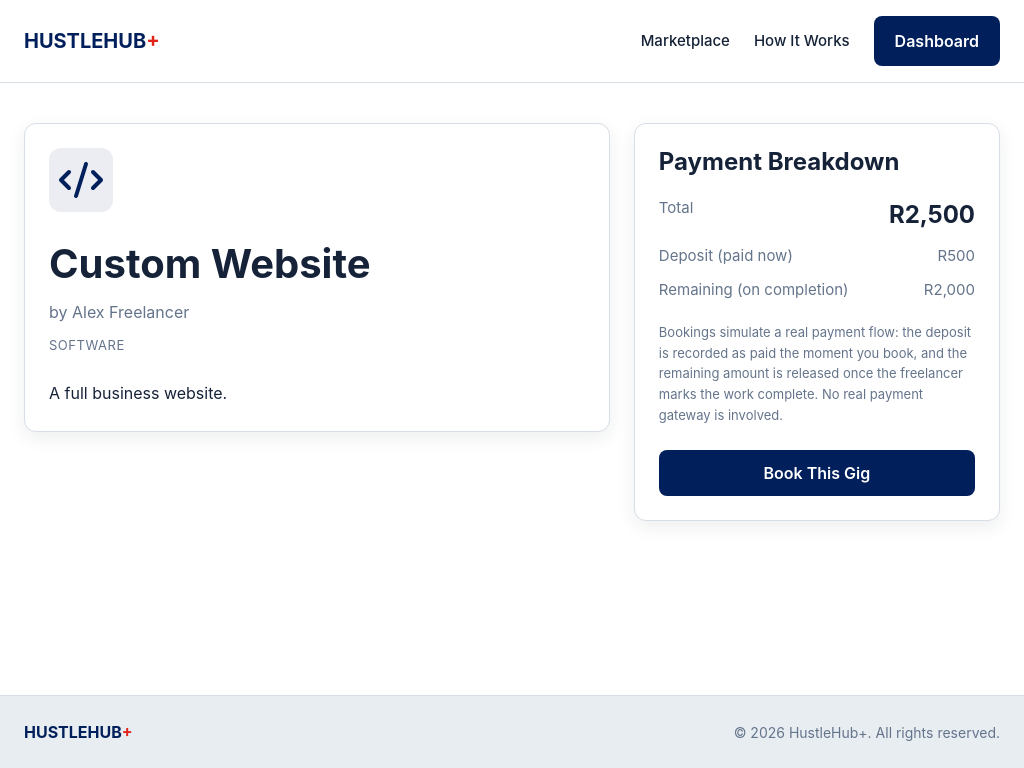
Test: Gig details: what each visitor can do › a successful booking toasts and goes to My Bookings
This screenshot has width=1024, height=768.
Click the button "Book This Gig": coordinates (817, 473) [659,450,975,496]
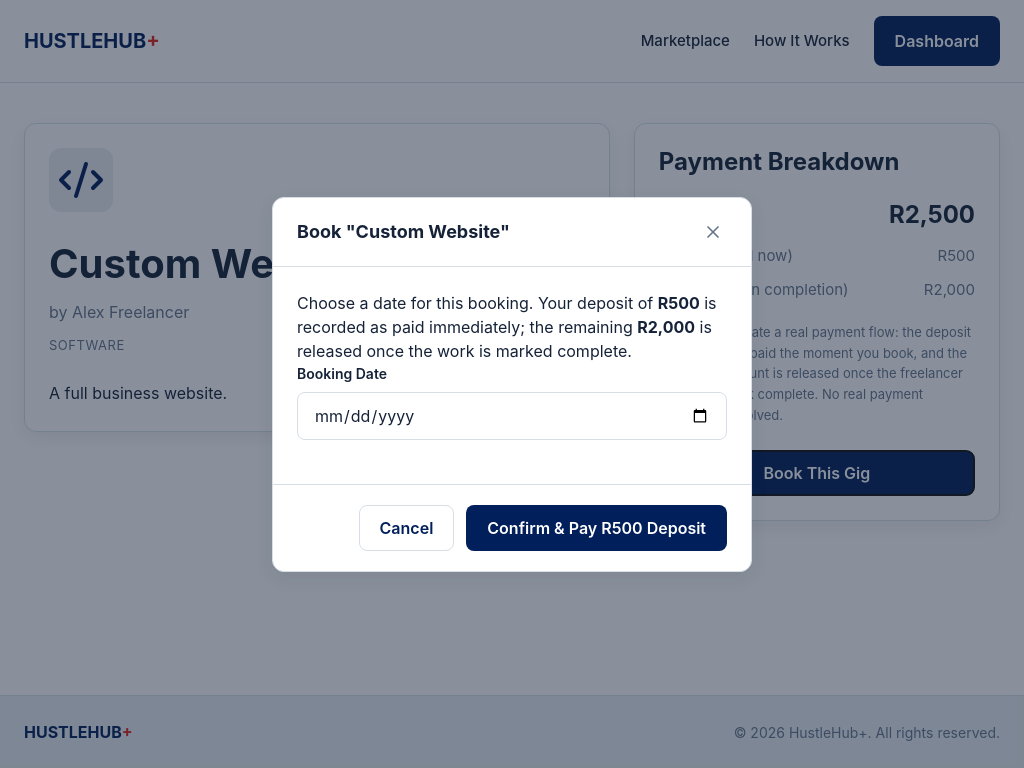
In the date field labelled "Booking Date": coordinates (512, 416) [297,392,727,440], type "2999-01-15"
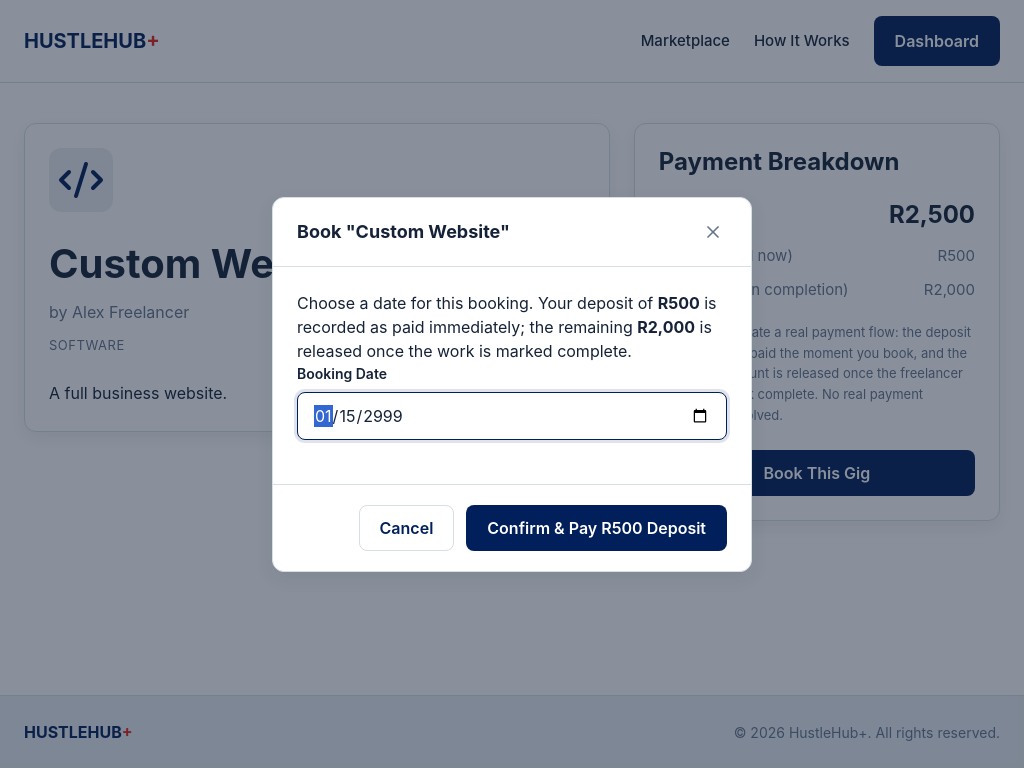
Click the button "Confirm & Pay R500 Deposit": coordinates (597, 528) [466,504,727,550]
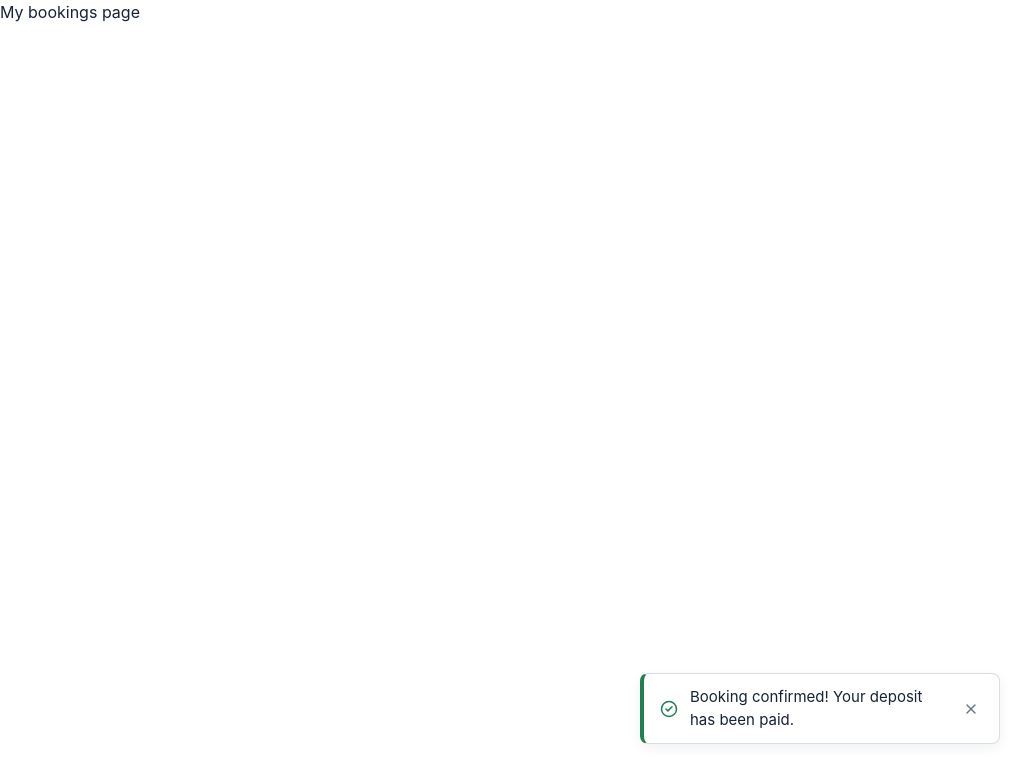
Expected: the text "My bookings page" is shown, [0,2,140,22]
Expected: the text "Booking confirmed! Your deposit has been paid." is shown, [690,686,947,731]
